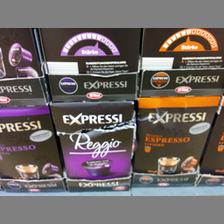coffee: (134, 95, 220, 185), (49, 100, 135, 178), (1, 106, 64, 180)
